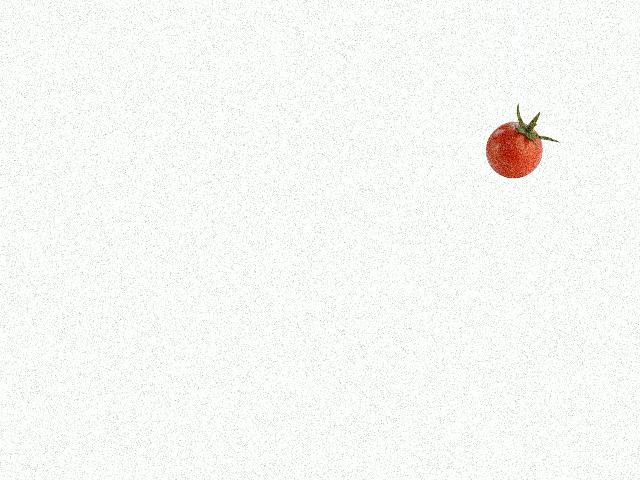tomato: (485, 122, 541, 178)
